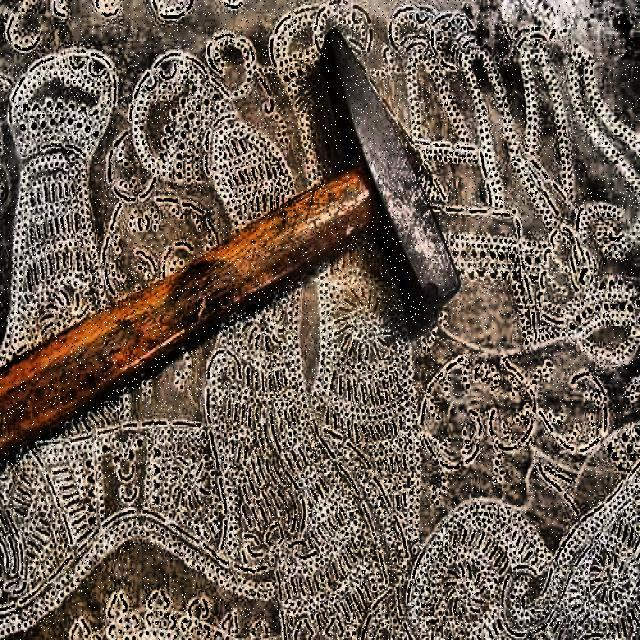hammer: (0, 24, 460, 481)
